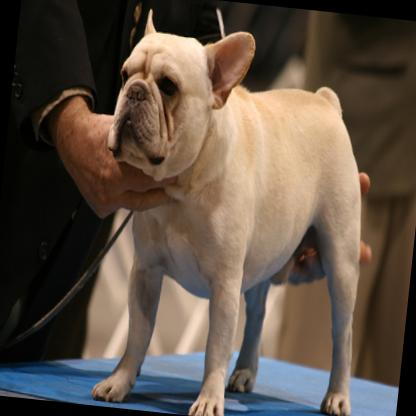French_bulldog: (77, 3, 389, 416)
